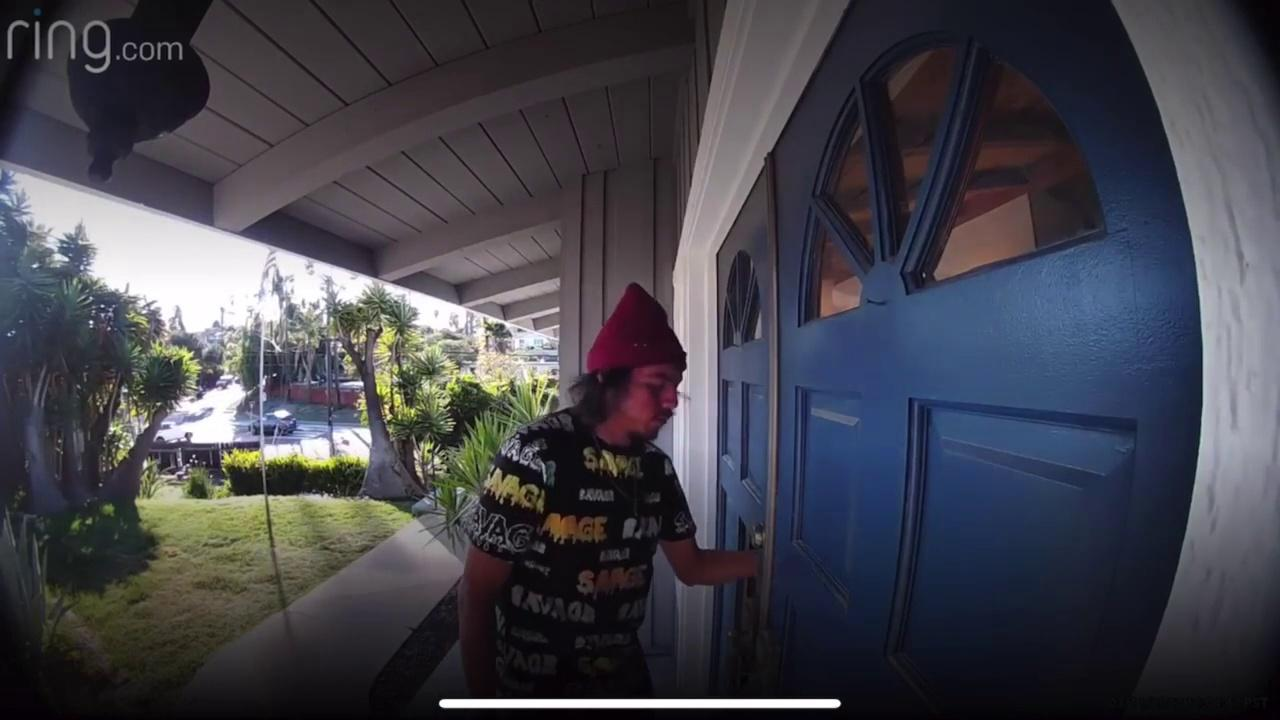suspicion: (474, 274, 776, 720)
